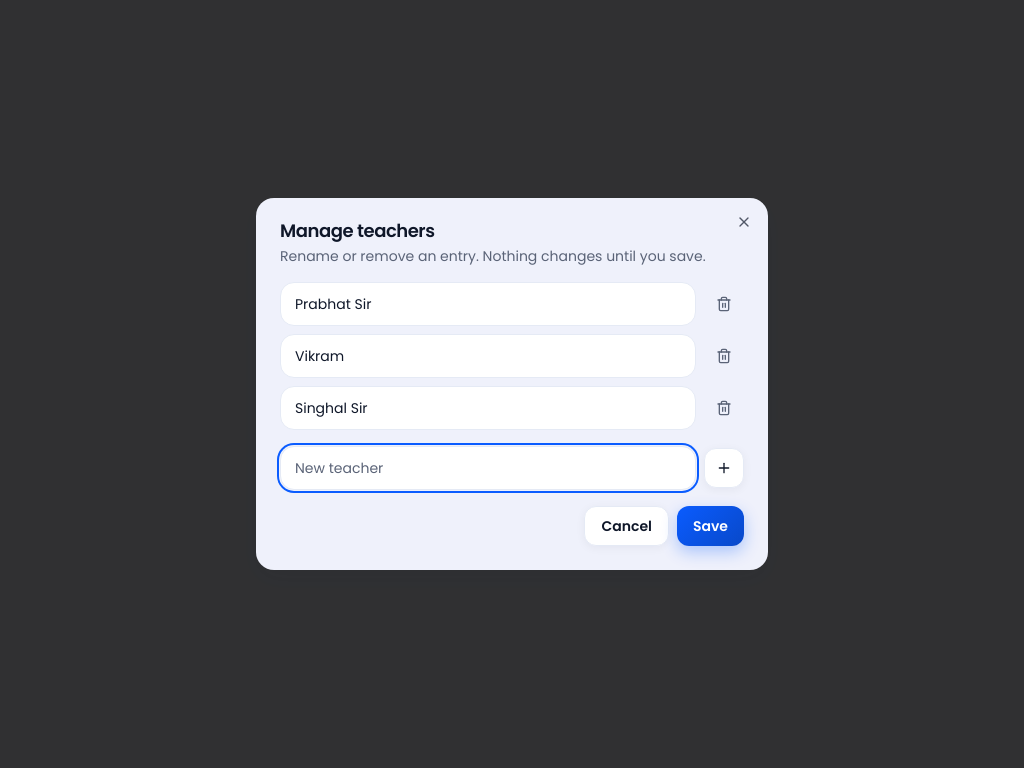
Test: ManageListDialog › shows the reason when the save itself fails, and stays open
The width and height of the screenshot is (1024, 768).
Replace the text in the field named "Teachers 2" with "Vikram Singh": x=488, y=356 [280,334,696,378]
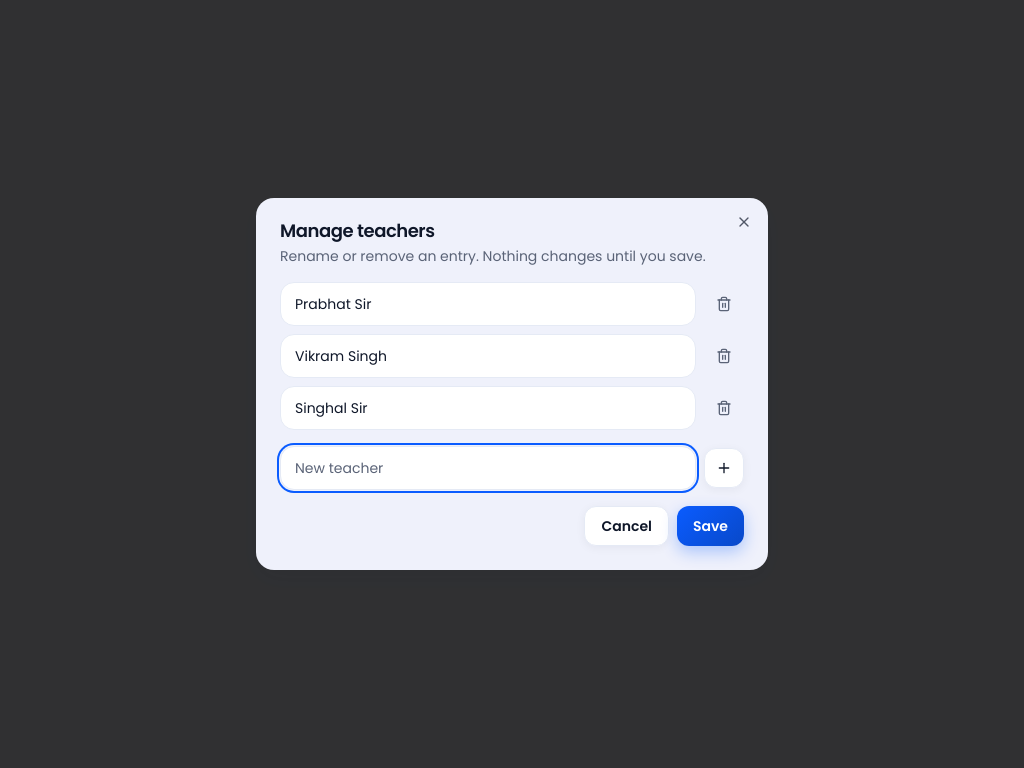
Click the button "Save": x=710, y=526 [677,506,744,546]
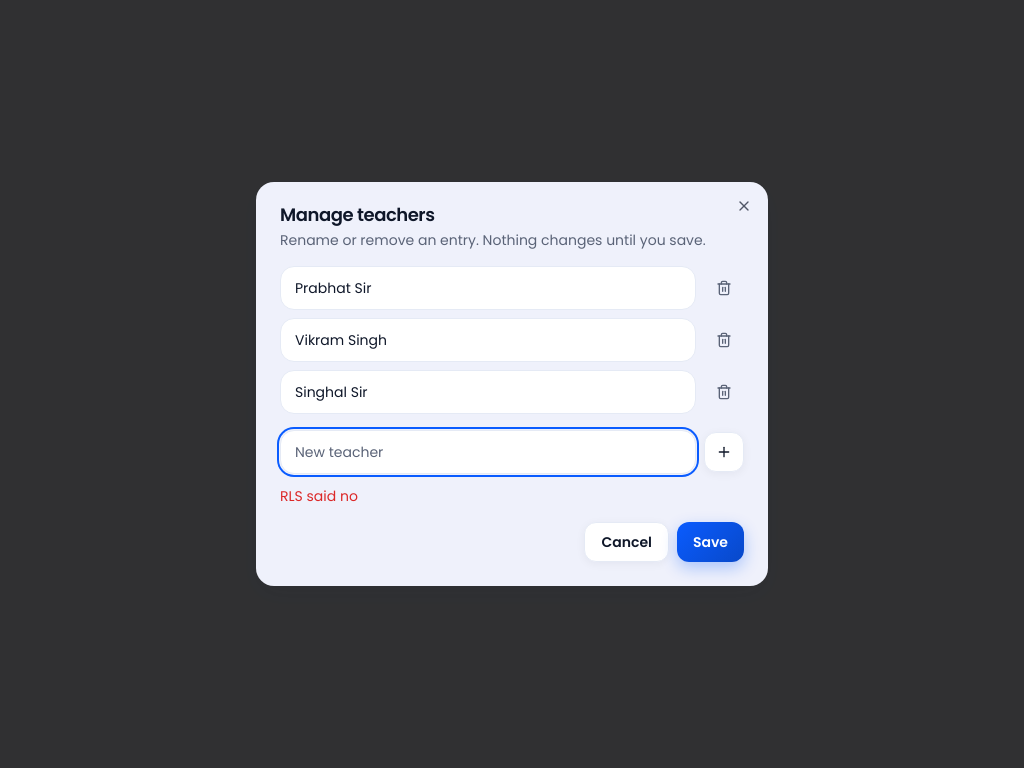
Expected: the text "RLS said no" is shown, [280,486,358,506]
